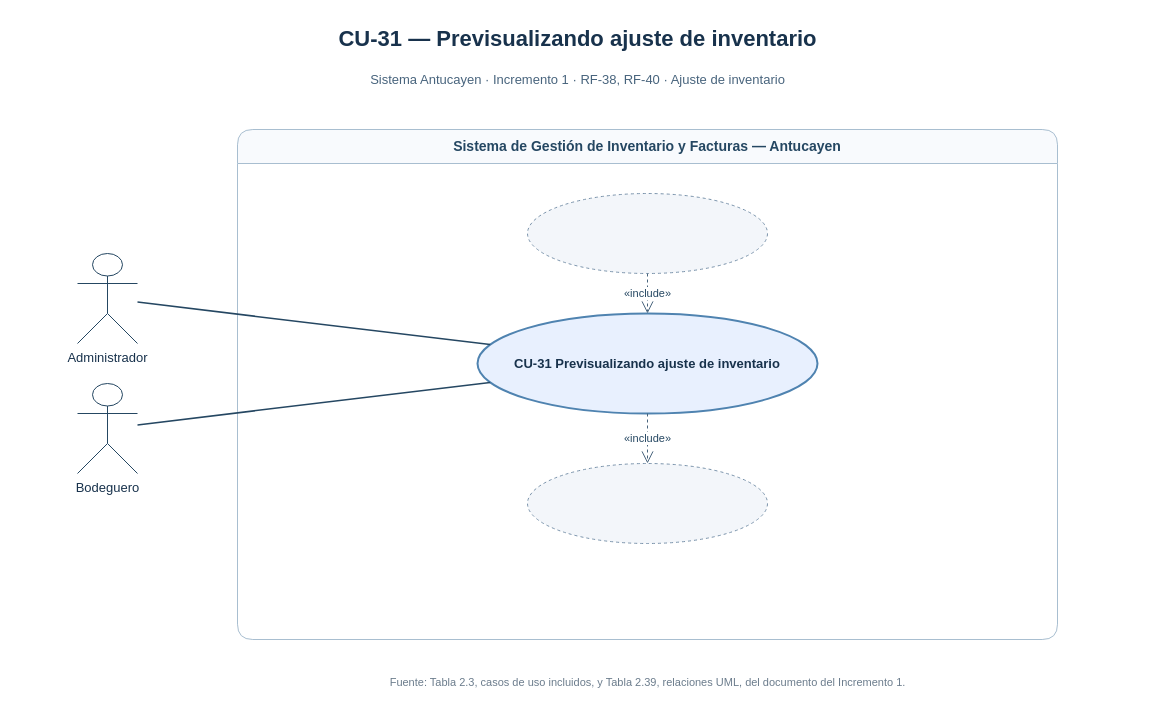
The diagram is 1154 pixels wide and 712 high, and some of its shapes have lost their labels. Each missing label, with the centre of its shape:
CU-27 Importando archivo Excel de ajuste de inventario: (647,233)
CU-32 Confirmando y aplicando ajuste de stock: (647,503)
